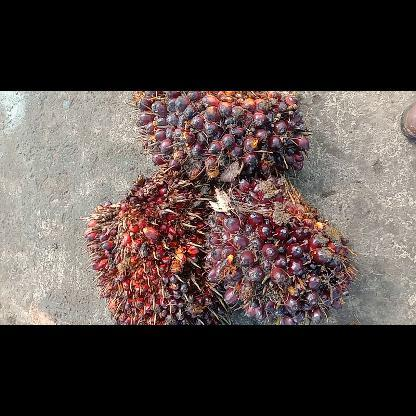Kurang masak: (204, 174, 356, 324), (132, 91, 310, 185)
TBS masak: (83, 174, 223, 324)
